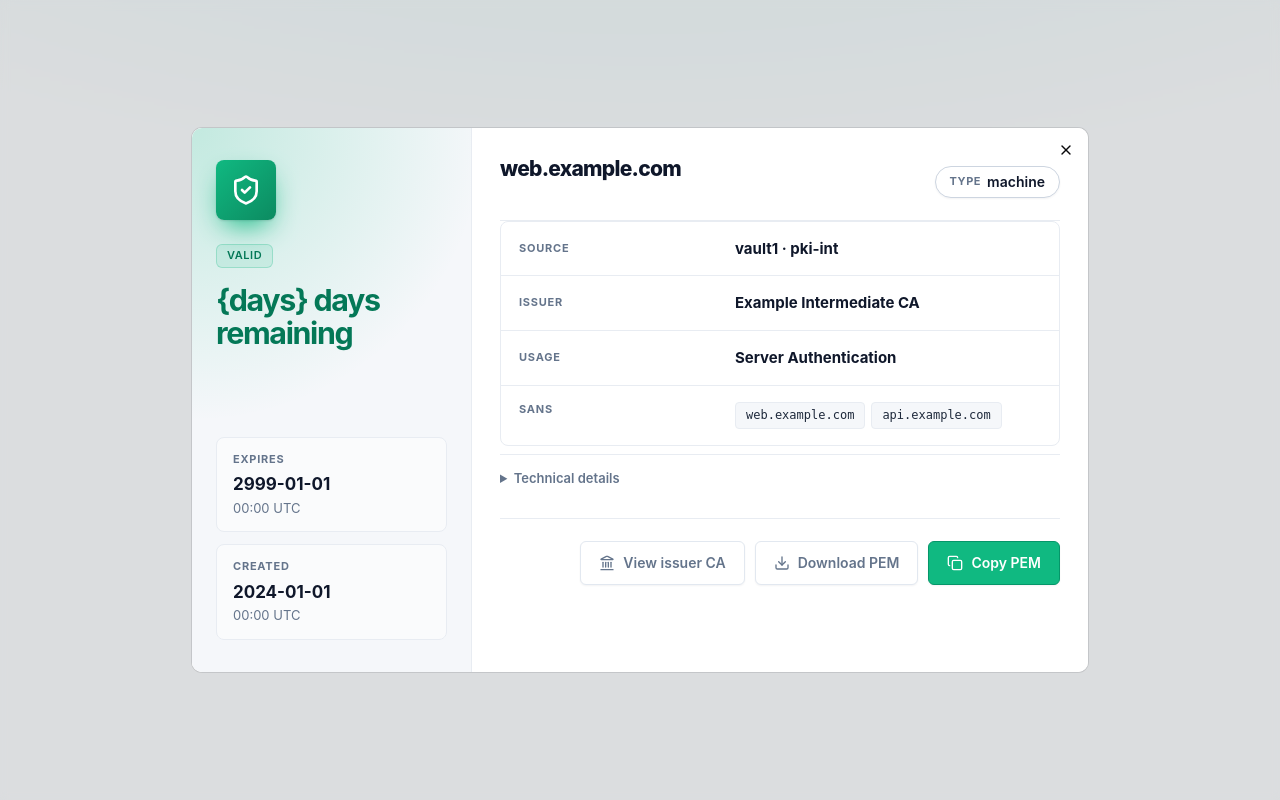
Test case: CertDetailModal › presents the issuer in a passport layout with technical identifiers collapsed
The width and height of the screenshot is (1280, 800).
Expected: the text "Example Intermediate CA" is shown, [735,293,920,312]
Step 1. Click the button "View issuer CA" → (663, 562), box [580,540,745,584]
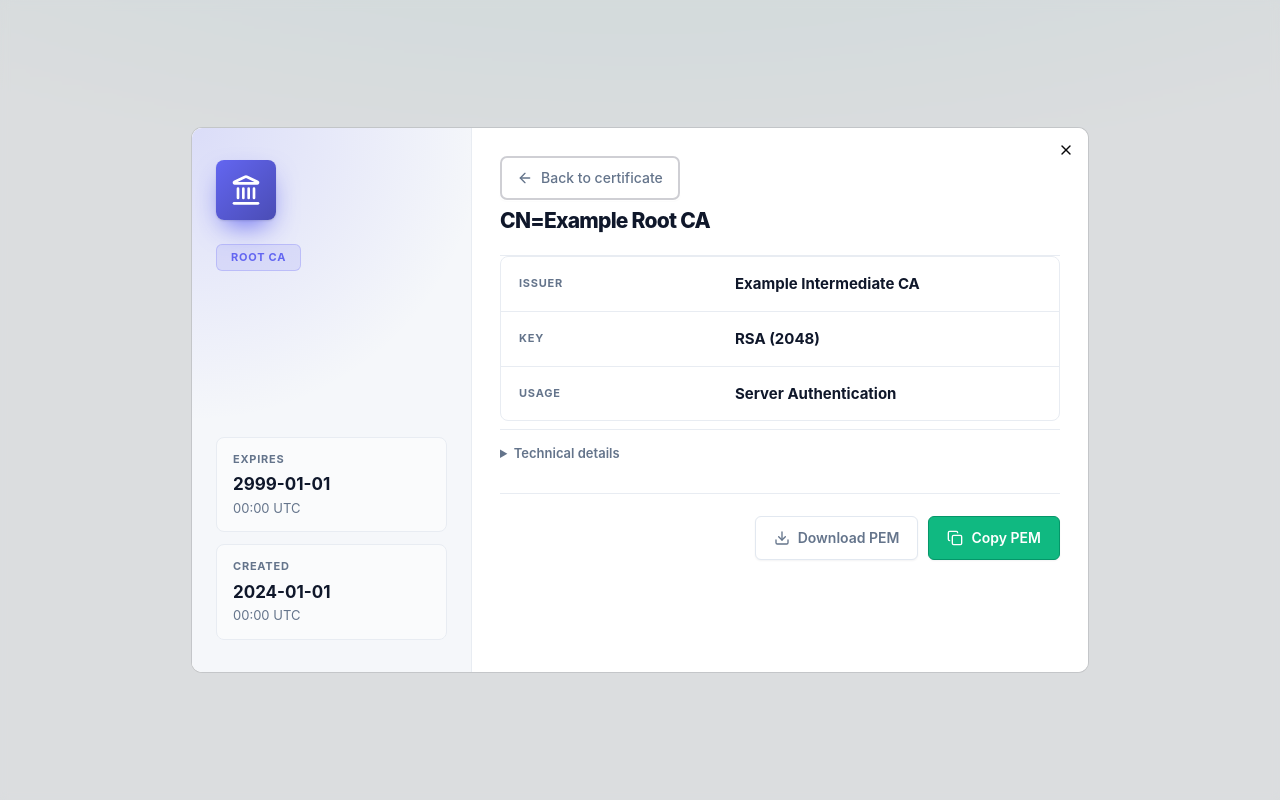
Expected: the element that starts with "Root CA" is shown, [192,128,472,672]
Expected: the text "Root CA" is shown, [231,250,286,266]
